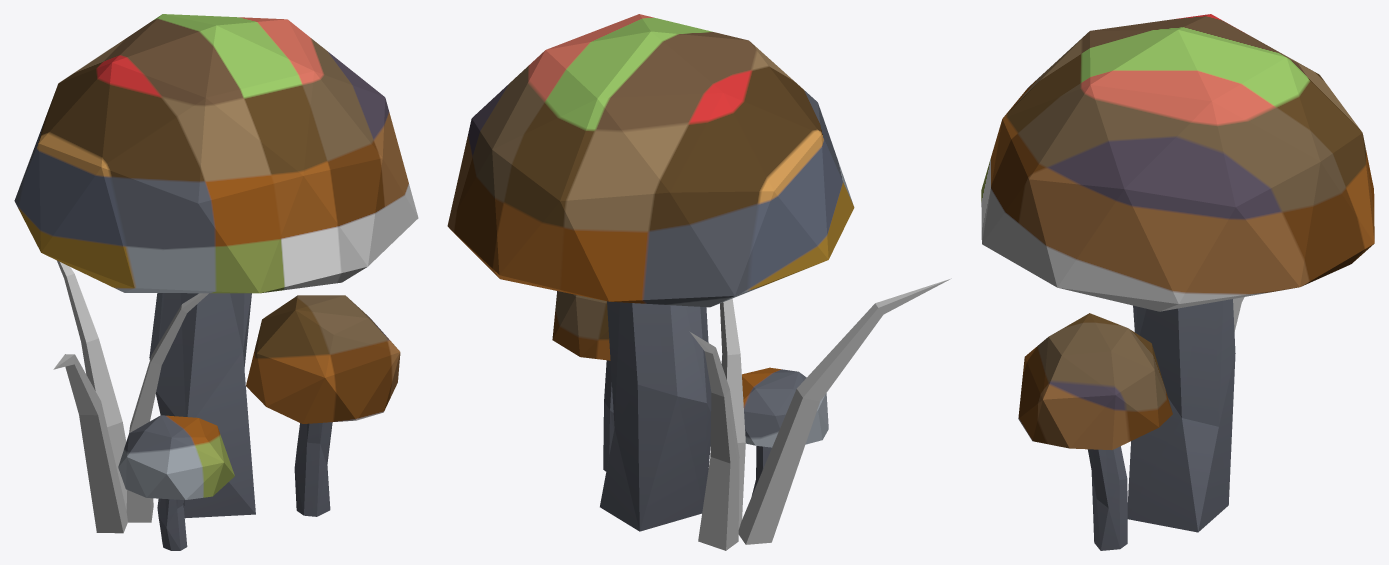
The model's file is Mushroom_08.fbx.
3 renders of one model, left to right at view 1: azimuth 30°, elevation 25°; view 2: azimuth 150°, elevation 25°; view 3: azimuth 270°, elevation 25°, orthographic.
Parts seen in each view (by area): view 1: Mushroom_08; view 2: Mushroom_08; view 3: Mushroom_08.
Boxes of the visible parts, box(x1,y1,x2,y2) form: Mushroom_08: box(14, 14, 418, 550); Mushroom_08: box(447, 14, 951, 550); Mushroom_08: box(981, 14, 1374, 550).
Size of the model in its own units: 0.9124 by 1.02 by 0.7508.
